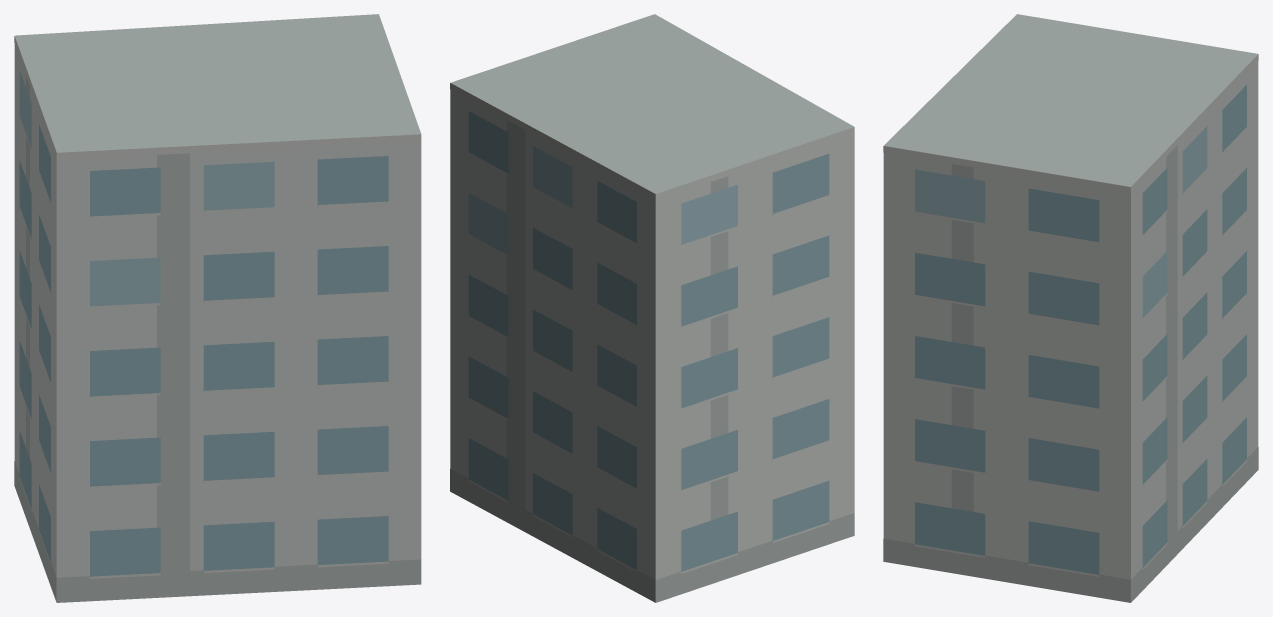
The model's file is survey-upis-32558508.glb.
3 views of the same model, side by side, from view 1: azimuth 30°, elevation 25°; view 2: azimuth 150°, elevation 25°; view 3: azimuth 270°, elevation 25° (orthographic). The views are drawn at different scales.
Visible parts, largest first — view 1: survey-upis-32558508.tmp; view 2: survey-upis-32558508.tmp; view 3: survey-upis-32558508.tmp.
Boxes of the visible parts, x1,y1,x2,y2 form: survey-upis-32558508.tmp: [14, 14, 421, 602]; survey-upis-32558508.tmp: [450, 14, 854, 602]; survey-upis-32558508.tmp: [883, 14, 1258, 602].
Bounding box in the file's own units: 13.62 × 15.25 × 12.47.
